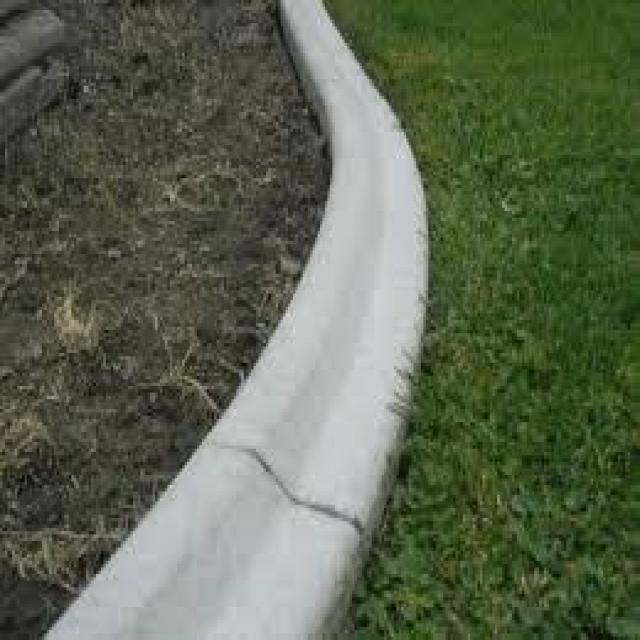curb: (207, 6, 428, 536), (45, 441, 372, 640)
